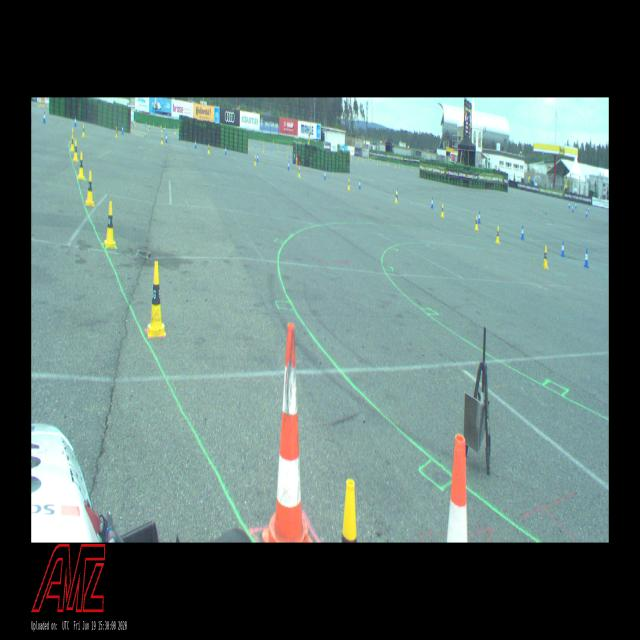blue_cone: (584, 248, 589, 267), (561, 240, 565, 256), (521, 225, 524, 240), (43, 110, 46, 123), (478, 210, 481, 223), (74, 115, 77, 126), (358, 179, 361, 190), (165, 133, 168, 143), (194, 140, 197, 148), (431, 197, 433, 209), (396, 188, 398, 200), (122, 124, 124, 135), (288, 160, 290, 170), (324, 170, 326, 180), (225, 147, 227, 155), (257, 152, 258, 162)
large_orange_cone: (262, 323, 313, 542), (446, 433, 468, 542)
yellow_cone: (146, 262, 166, 338), (339, 479, 360, 542), (104, 200, 116, 249), (85, 170, 95, 207), (78, 150, 84, 180), (543, 246, 549, 269), (73, 140, 79, 162), (495, 226, 500, 243), (70, 134, 74, 152), (440, 203, 444, 217), (475, 215, 478, 231), (71, 127, 74, 143), (82, 124, 85, 138), (347, 178, 350, 191), (160, 134, 163, 145), (116, 126, 118, 138), (395, 191, 397, 203), (208, 144, 210, 155), (254, 155, 256, 166), (298, 167, 300, 177)
